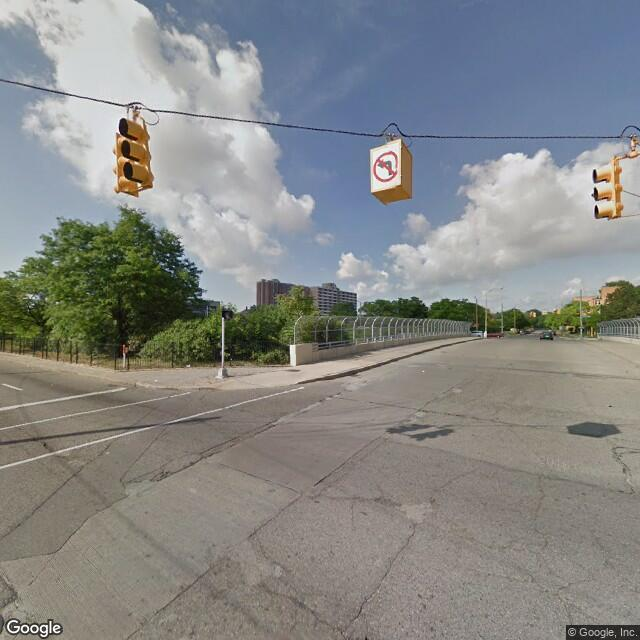litter: (184, 362, 192, 369), (153, 377, 160, 383)
